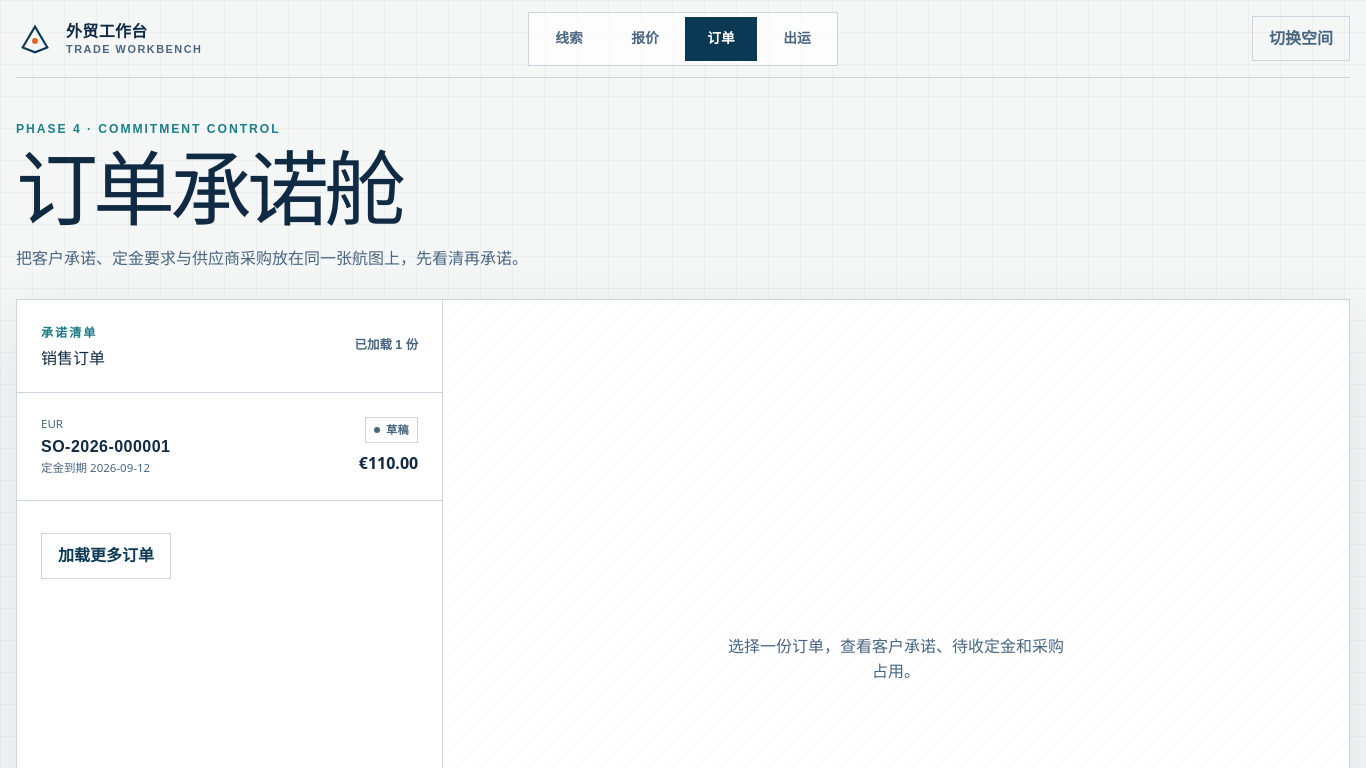
Test case: Order business forms › retains loaded orders after a page error, retries the cursor and restarts explicitly
Click the button "加载更多订单": (106, 556) [41,533,171,579]
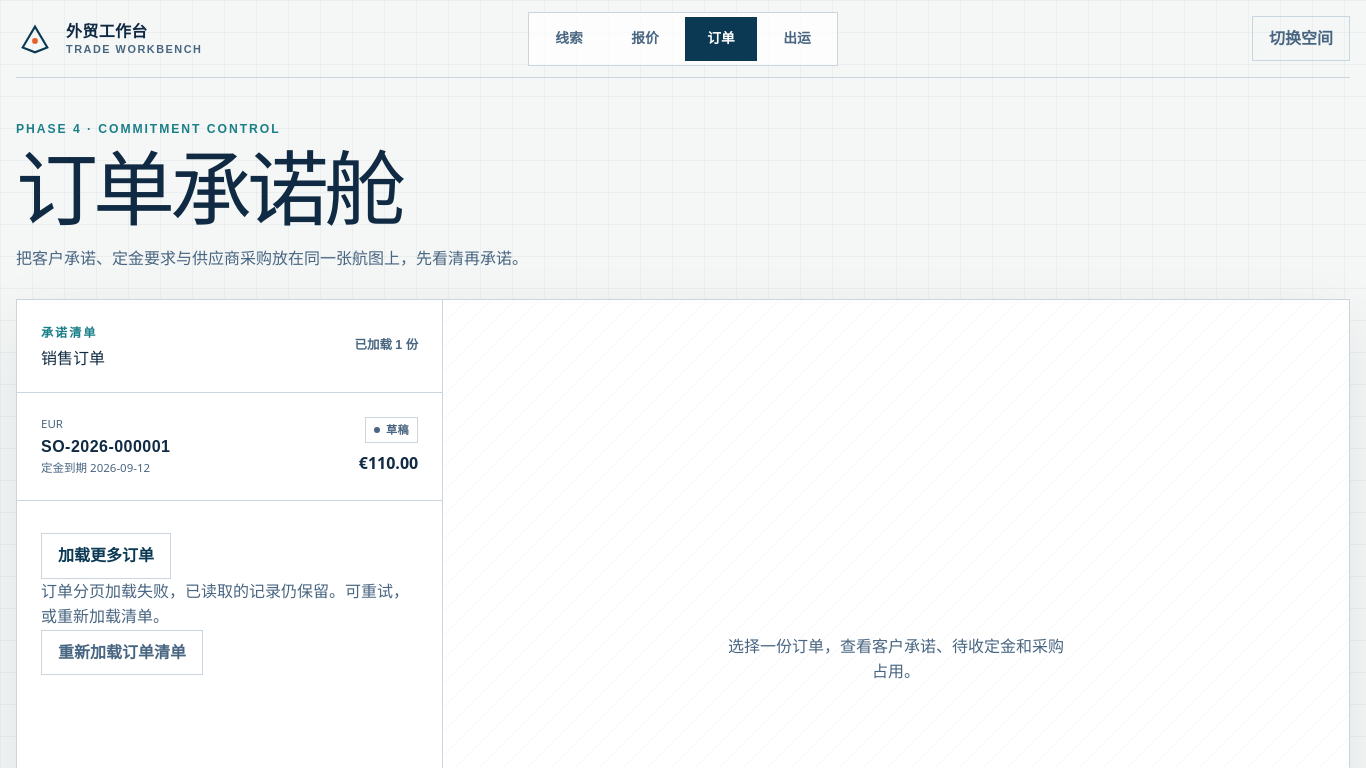
Check: the text "SO-2026-000001" is shown, box [41,438,170,455]
Check: the text "订单分页加载失败，已读取的记录仍保留。可重试，或重新加载清单。" is shown, box [41,579,418,630]
Click the button "重新加载订单清单": (122, 653) [41,630,203,675]
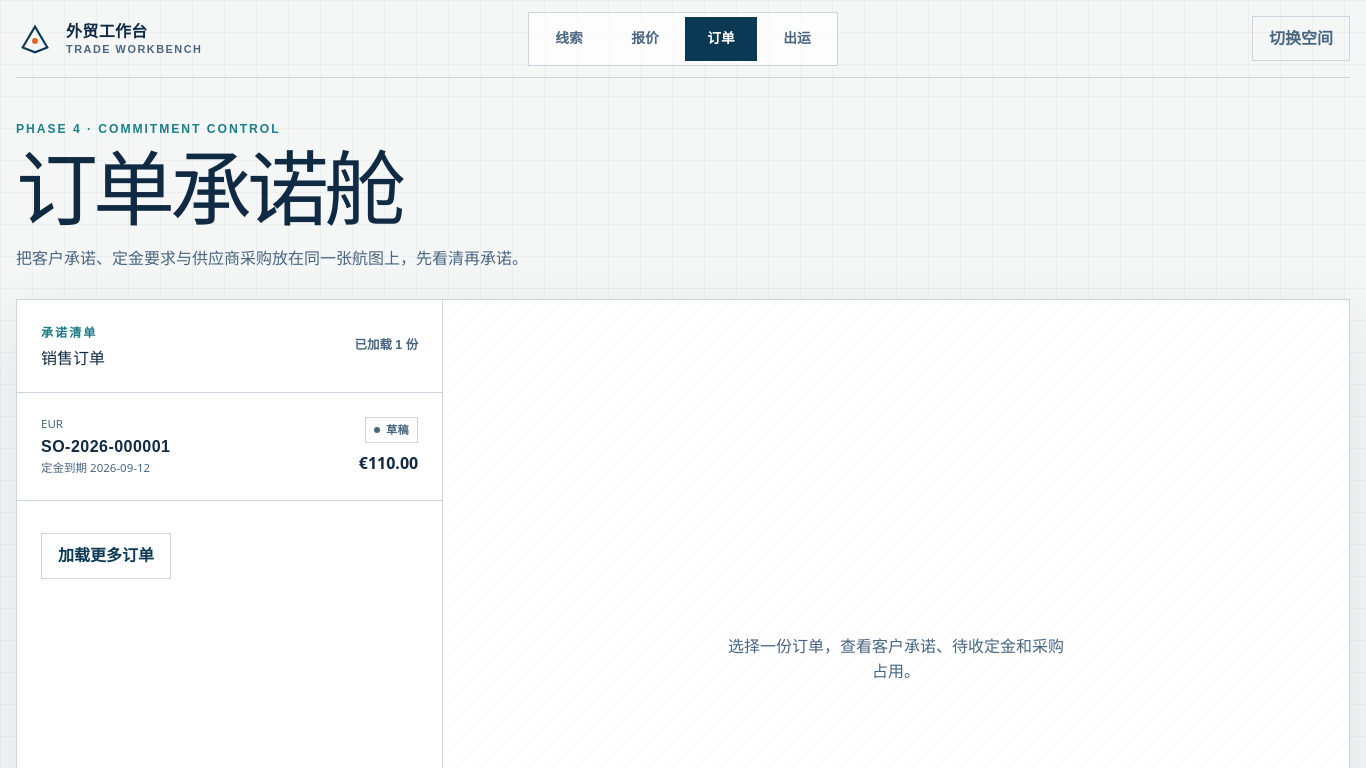
Check: the text "订单分页加载失败" is gone
Click the button "加载更多订单": (106, 556) [41,533,171,579]
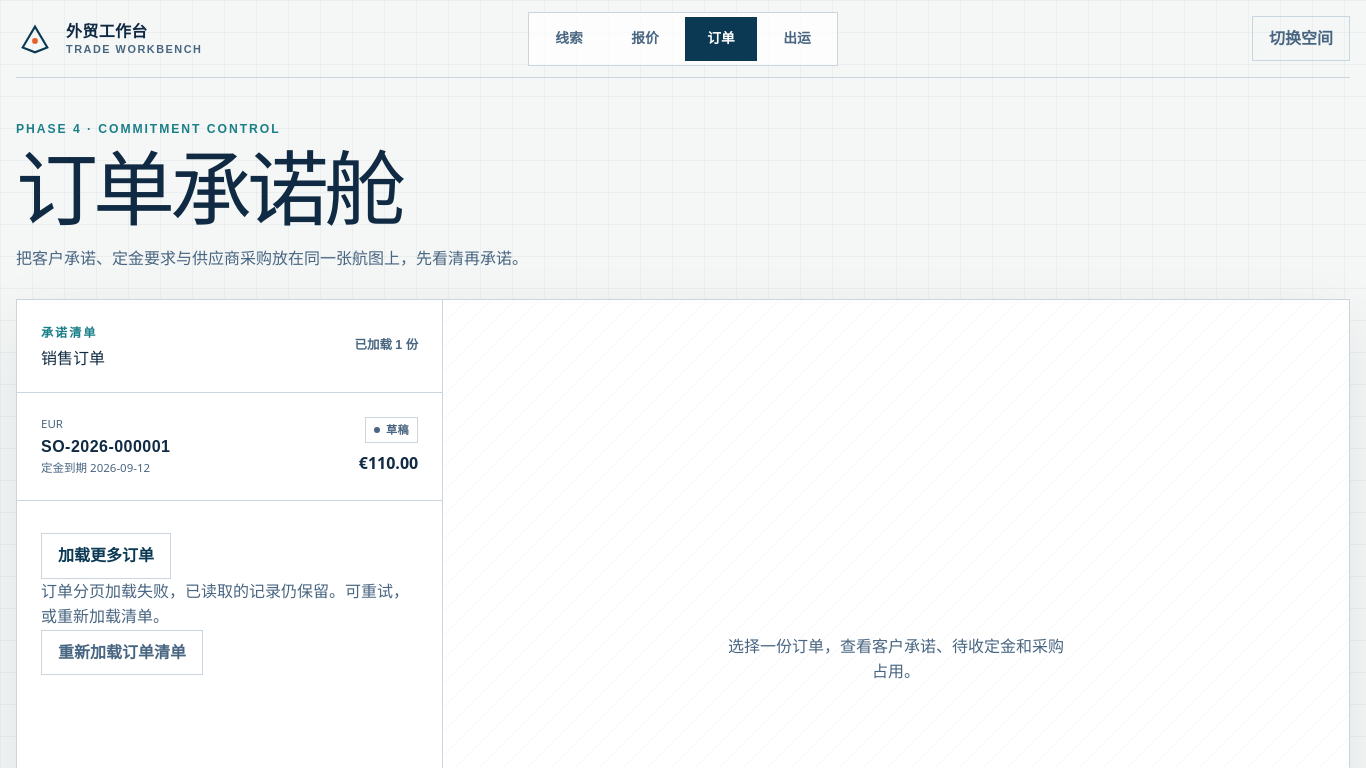
Check: the text "订单分页加载失败，已读取的记录仍保留。可重试，或重新加载清单。" is shown, box [41,579,418,630]
Click the button "加载更多订单": (106, 556) [41,533,171,579]
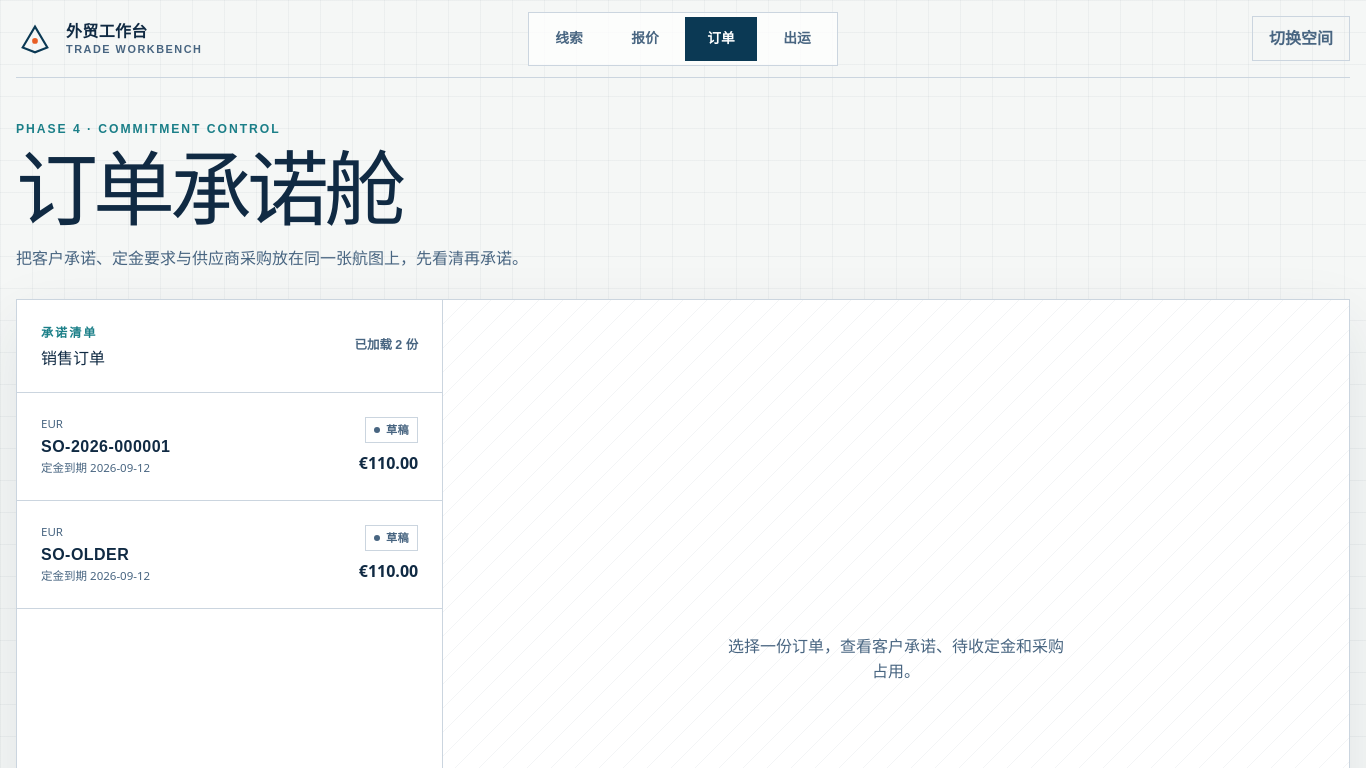
Check: the text "SO-OLDER" is shown, box [41,546,129,563]
Check: the button "加载更多订单" is gone
